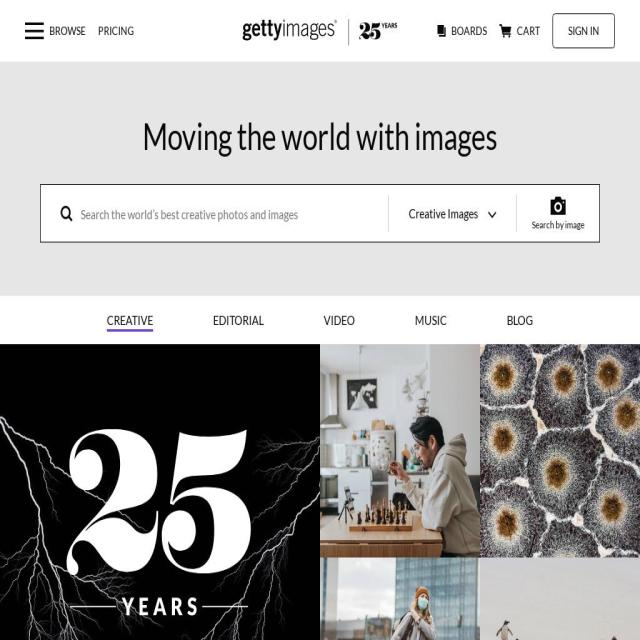button: (392, 190, 513, 237), (554, 12, 615, 48), (430, 14, 493, 48), (21, 19, 88, 46), (493, 17, 547, 48), (91, 18, 142, 46)
field: (41, 182, 599, 242)
heading: (142, 120, 501, 158), (241, 14, 402, 52)
image: (2, 347, 318, 640), (320, 344, 479, 560), (480, 344, 640, 558), (478, 556, 639, 640), (319, 561, 477, 639), (547, 194, 569, 217), (24, 22, 46, 42), (484, 204, 500, 224), (61, 203, 72, 224), (435, 23, 447, 38), (500, 24, 512, 39)
label: (78, 202, 299, 225), (527, 220, 587, 232)
